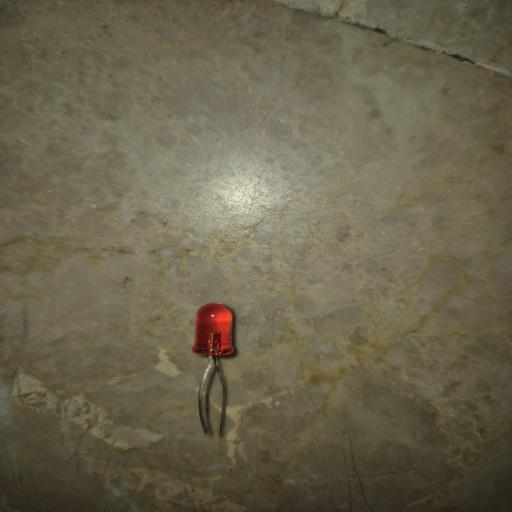led-diode: (192, 303, 235, 437)
